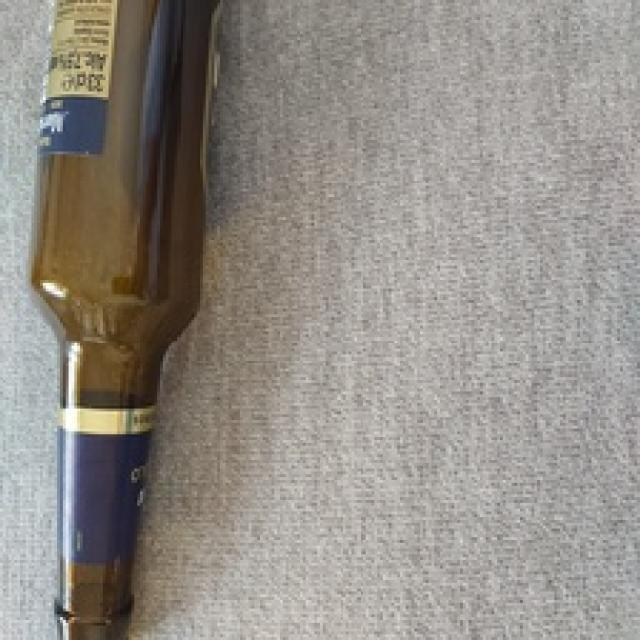garbage: (0, 0, 260, 635)
